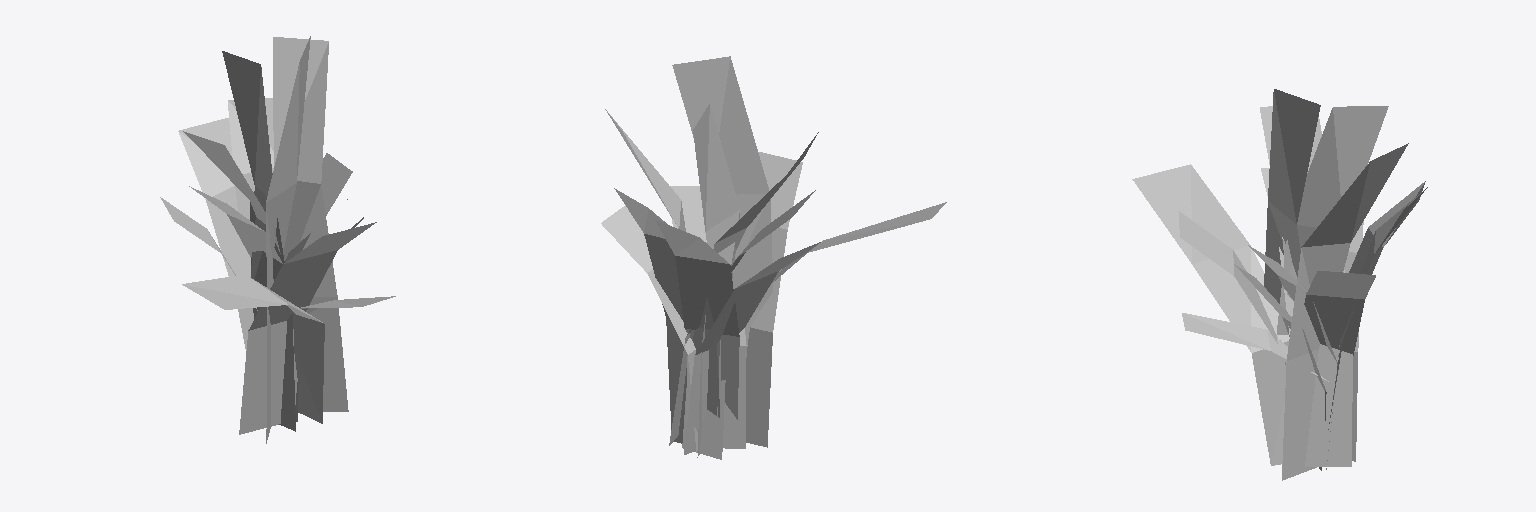
File: high_grass.obj
The picture shows the model from 3 angles: view 1: azimuth 30°, elevation 25°; view 2: azimuth 150°, elevation 25°; view 3: azimuth 270°, elevation 25°; orthographic projection.
Visible parts, largest first — view 1: high_grass; view 2: high_grass; view 3: high_grass.
Boxes of the visible parts, box(x1,y1,x2,y2) form: high_grass: box(160, 36, 395, 443); high_grass: box(601, 56, 946, 459); high_grass: box(1132, 89, 1427, 480).
Size of the model in its own units: 0.8734 by 1.31 by 0.9376.